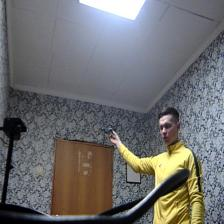drone: (100, 124, 122, 135)
